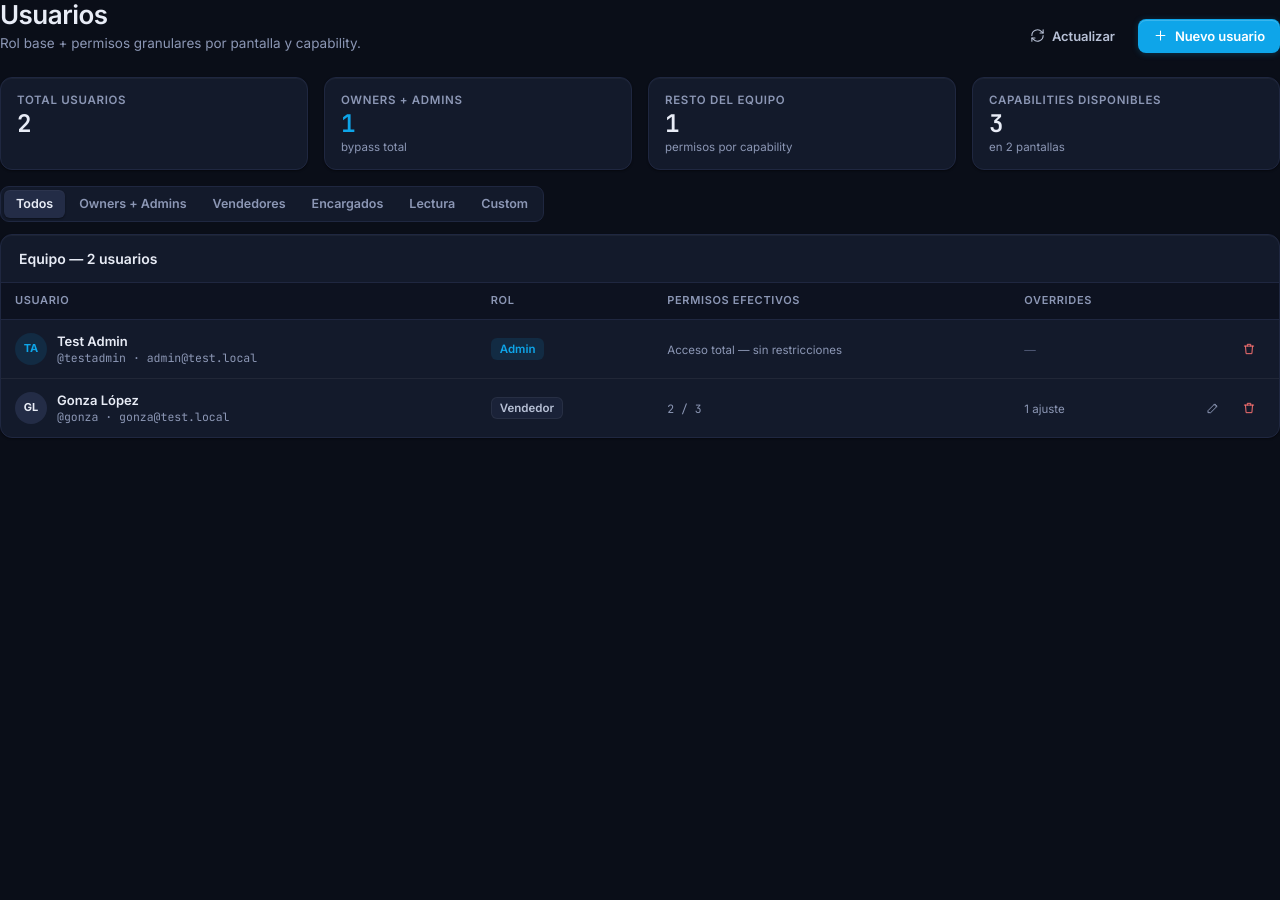
Test: Pantalla Usuarios — edición › click en lápiz abre el editor con el rol del user pre-cargado
expect the text "Gonza López" is shown: met, box [57, 392, 139, 408]
Click the button named "editar permisos". click: (1213, 408)
box: [1197, 392, 1229, 424]
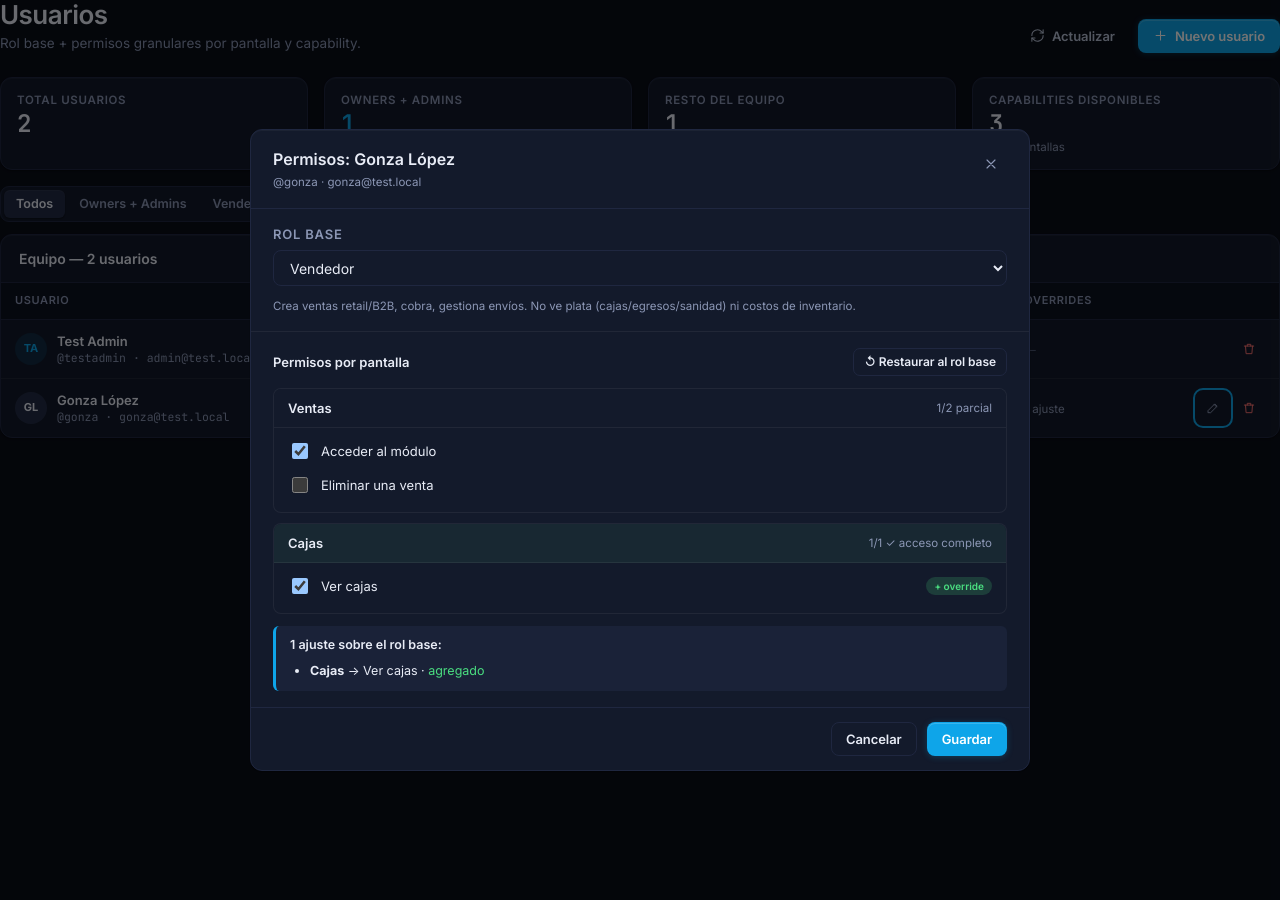
expect the text "Permisos: Gonza López" is shown: met, box [273, 148, 455, 170]
